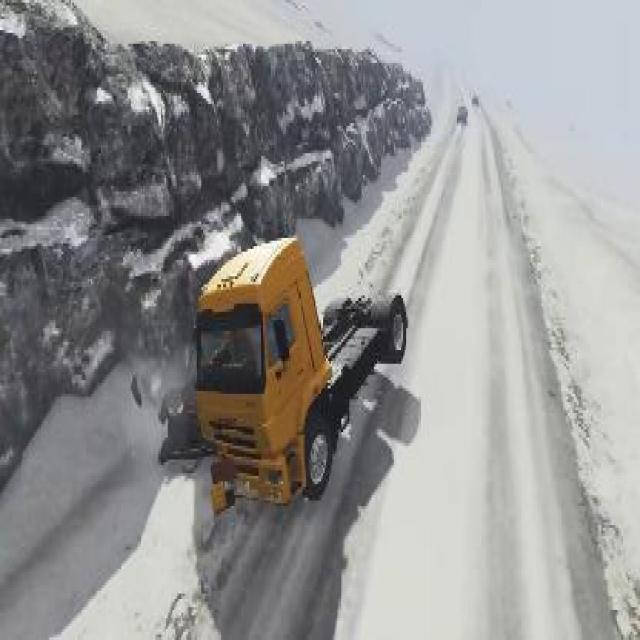accident: (158, 181, 410, 514)
